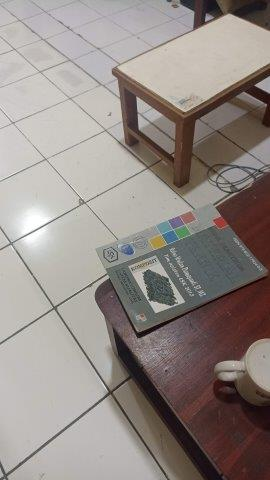kertas: (97, 200, 267, 333)
